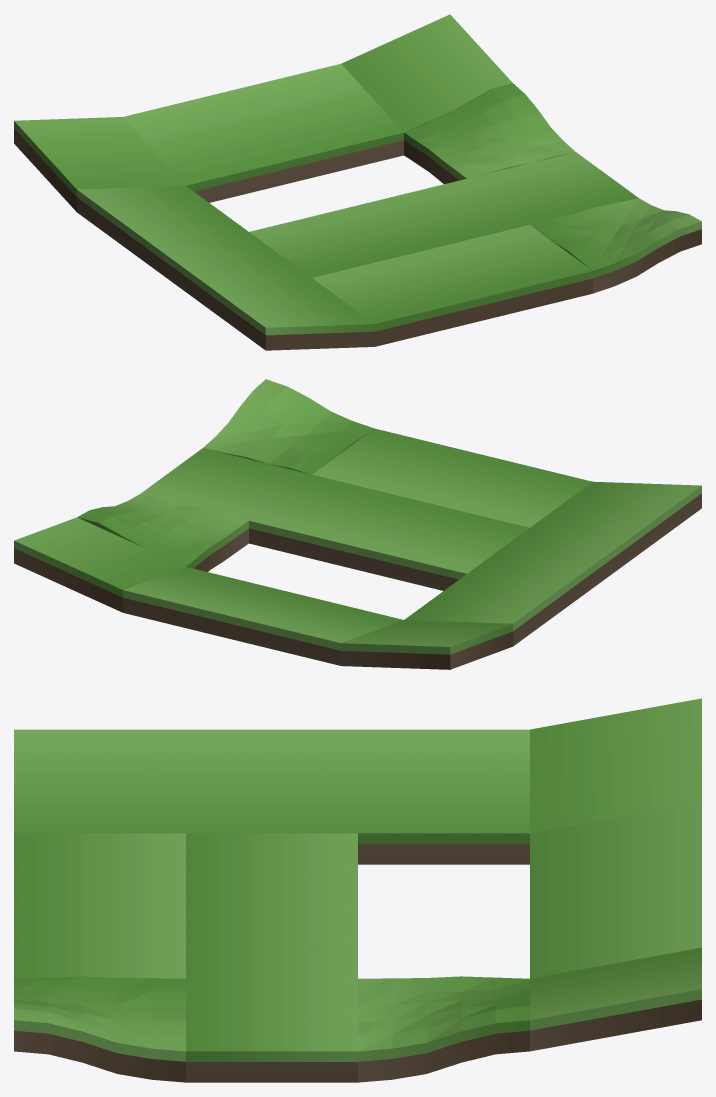
The model's file is BASE OUTSIDE.fbx.
3 renders of one model, top to bottom at view 1: azimuth 30°, elevation 25°; view 2: azimuth 150°, elevation 25°; view 3: azimuth 270°, elevation 25°, orthographic. The views are drawn at different scales.
Visible parts, largest first — view 1: South Slope 2, South Slope 1, South West Valley, West Hill 1, South East Valley, East Slope 1, North Plain, North East Plain, West Hill 2, East Slope 2, East Slope 3, Center Plain (+2 smaller); view 2: Center Plain, East Plain, West Hill 2, South West Valley, West Hill 1, South East Valley, East Slope 3, North Plain, East Slope 1, East Slope 2, North East Plain, South Slope 1 (+2 smaller); view 3: East Slope 3, East Slope 1, East Slope 2, West Plain, South East Valley, West Hill 1, West Hill 2, South West Valley, South Slope 1, South Slope 2, North East Plain, East Plain (+2 smaller).
Part boxes in pixels (x1,y1,x2,y2): South Slope 2: (232, 64, 403, 181); South Slope 1: (123, 90, 294, 202); South West Valley: (341, 14, 512, 132); West Hill 1: (404, 83, 575, 184); South East Valley: (14, 117, 185, 211); East Slope 1: (203, 278, 374, 350); North Plain: (421, 225, 592, 320); North East Plain: (312, 251, 483, 346); West Hill 2: (530, 198, 701, 293); East Slope 2: (140, 232, 311, 304); East Slope 3: (77, 186, 248, 258); Center Plain: (358, 179, 529, 251); Center Plain: (249, 474, 420, 569); East Plain: (358, 501, 529, 590); West Hill 2: (203, 379, 374, 474); South West Valley: (14, 517, 185, 612); West Hill 1: (77, 494, 248, 571); South East Valley: (341, 620, 512, 669); East Slope 3: (404, 574, 575, 646); North Plain: (312, 428, 483, 500); East Slope 1: (530, 481, 701, 553); East Slope 2: (467, 528, 638, 600); North East Plain: (421, 455, 592, 527); South Slope 1: (232, 593, 403, 665); East Slope 3: (358, 729, 529, 864); East Slope 1: (14, 729, 185, 833); East Slope 2: (186, 729, 357, 833); West Plain: (186, 978, 357, 1082); South East Valley: (530, 698, 701, 833); West Hill 1: (358, 976, 529, 1082); West Hill 2: (14, 976, 185, 1082); South West Valley: (530, 947, 701, 1051); South Slope 1: (530, 802, 701, 905); South Slope 2: (530, 875, 701, 978); North East Plain: (14, 833, 185, 905); East Plain: (186, 833, 357, 905).
Bounding box in the file's own units: 120 × 18 × 120.
1 material, 1 textured.
